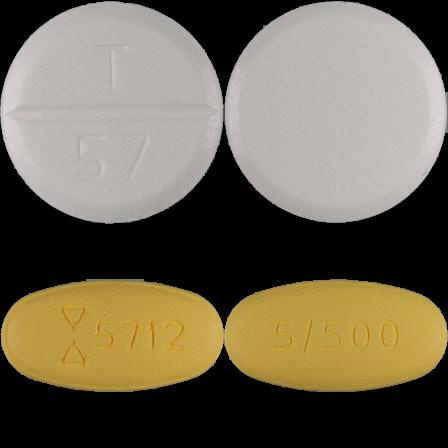21695-562: (0, 0, 224, 224)
